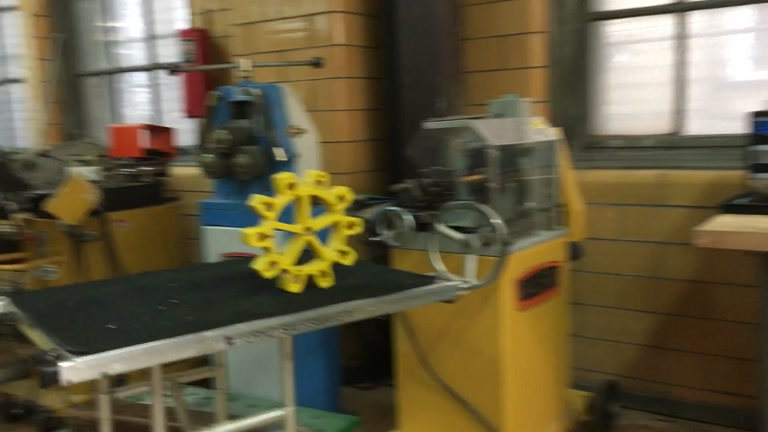gear: (242, 169, 364, 294)
